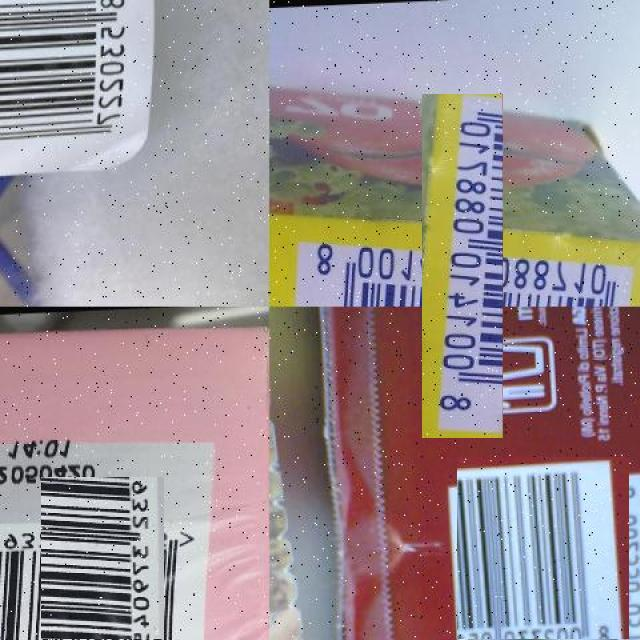Barcode: (356, 160, 569, 372), (451, 462, 635, 640), (0, 0, 154, 174), (21, 496, 184, 640)
